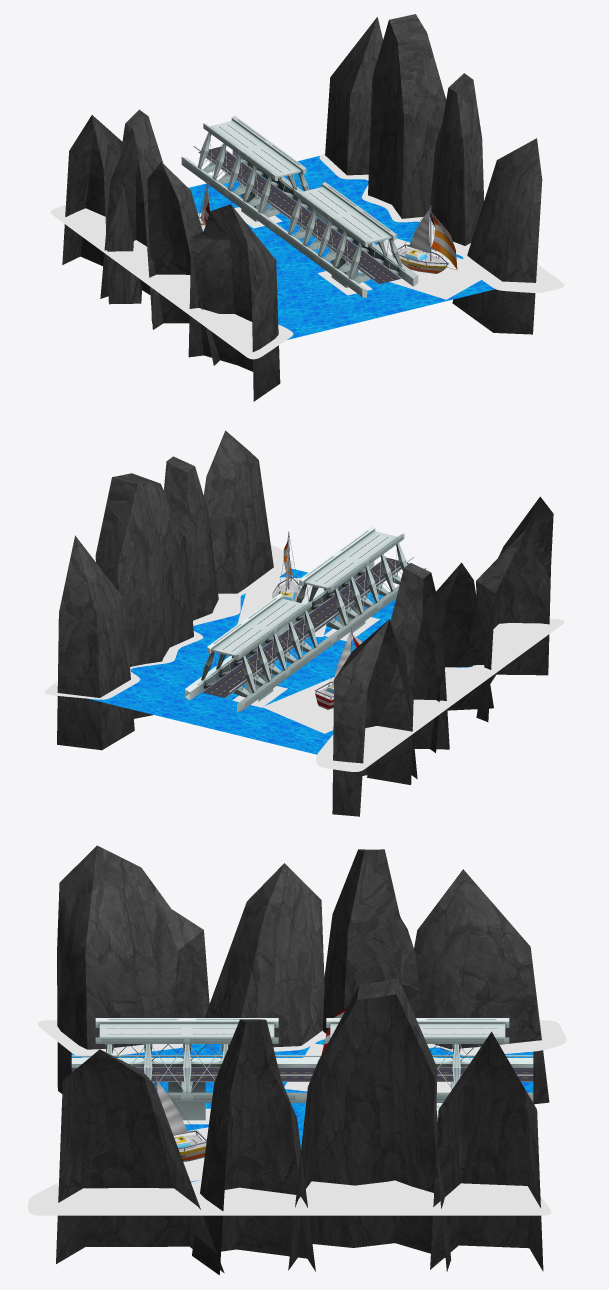
Rendered from Bridge_02.fbx.
3 renders of one model, top to bottom at view 1: azimuth 30°, elevation 25°; view 2: azimuth 150°, elevation 25°; view 3: azimuth 270°, elevation 25°, orthographic. The views are drawn at different scales.
Parts seen in each view (by area): view 1: Bridge_02; view 2: Bridge_02; view 3: Bridge_02.
Part boxes in pixels (left/top/right/bottom): Bridge_02: left=50, top=14, right=564, bottom=401; Bridge_02: left=44, top=430, right=564, bottom=816; Bridge_02: left=28, top=845, right=566, bottom=1275.
Bounding box in the file's own units: 22617 × 13384 × 25170.
